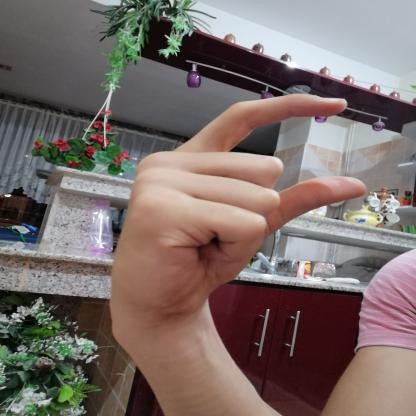DELL: (95, 88, 378, 326)
